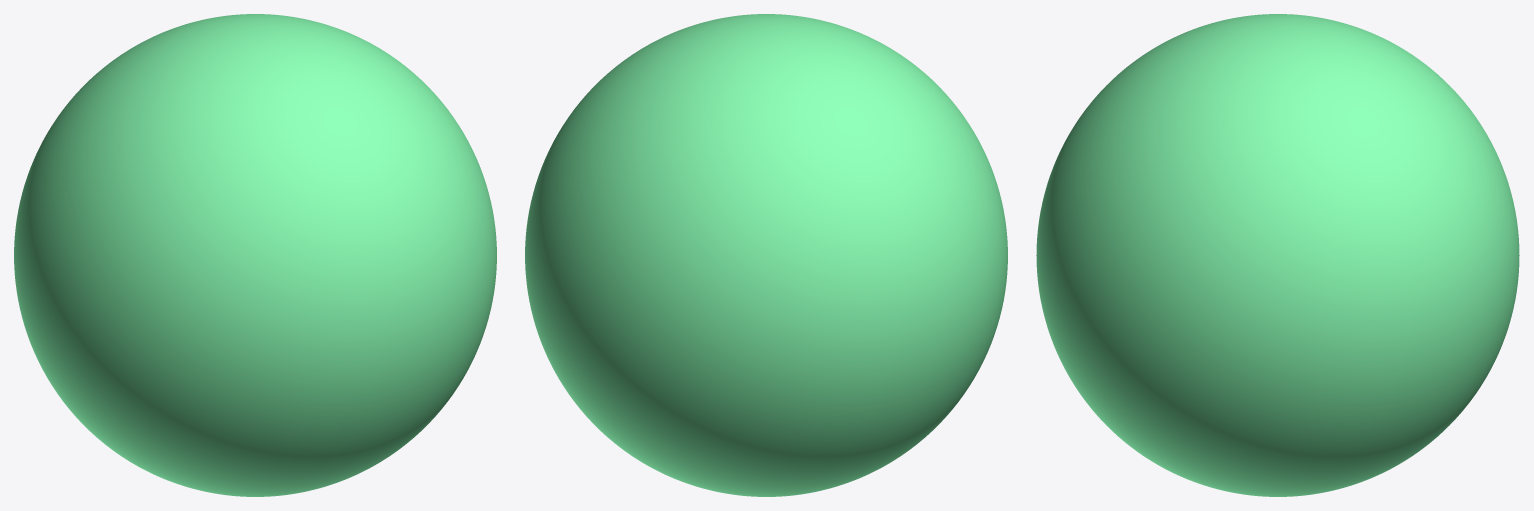
Rendered from Algae.fbx.
The picture shows the model from 3 angles, left to right: view 1: azimuth 30°, elevation 25°; view 2: azimuth 150°, elevation 25°; view 3: azimuth 270°, elevation 25°; orthographic projection.
Parts seen in each view (by area): view 1: ALGAE (GE-25501); view 2: ALGAE (GE-25501); view 3: ALGAE (GE-25501).
Boxes of the visible parts, bbox=[...] form: ALGAE (GE-25501): bbox=[14, 14, 496, 496]; ALGAE (GE-25501): bbox=[525, 14, 1007, 496]; ALGAE (GE-25501): bbox=[1036, 14, 1519, 496].
Size of the model in its own units: 0.4064 by 0.4064 by 0.4064.
